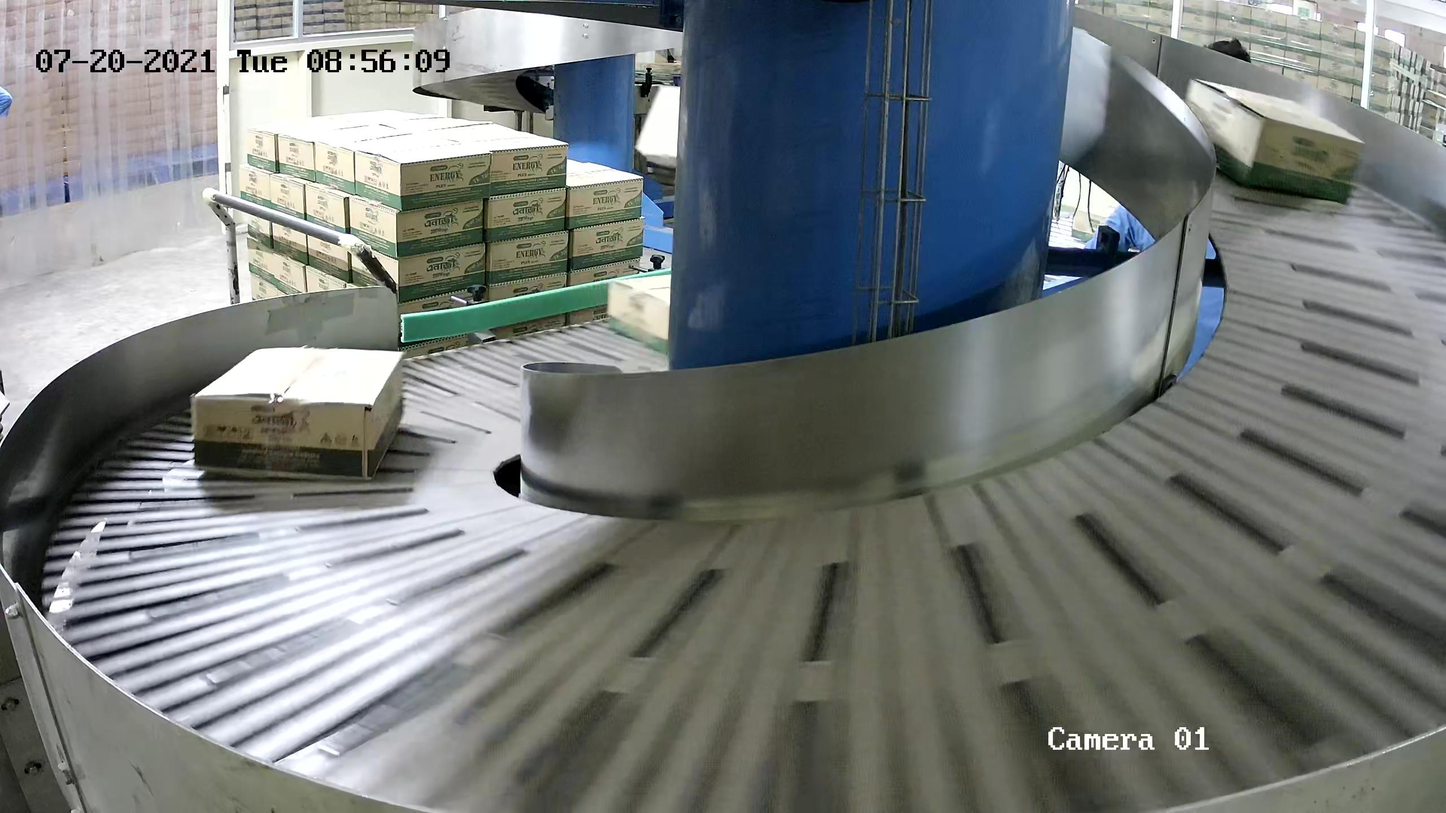Box: (188, 343, 408, 484), (1181, 75, 1367, 206), (606, 272, 692, 356)
